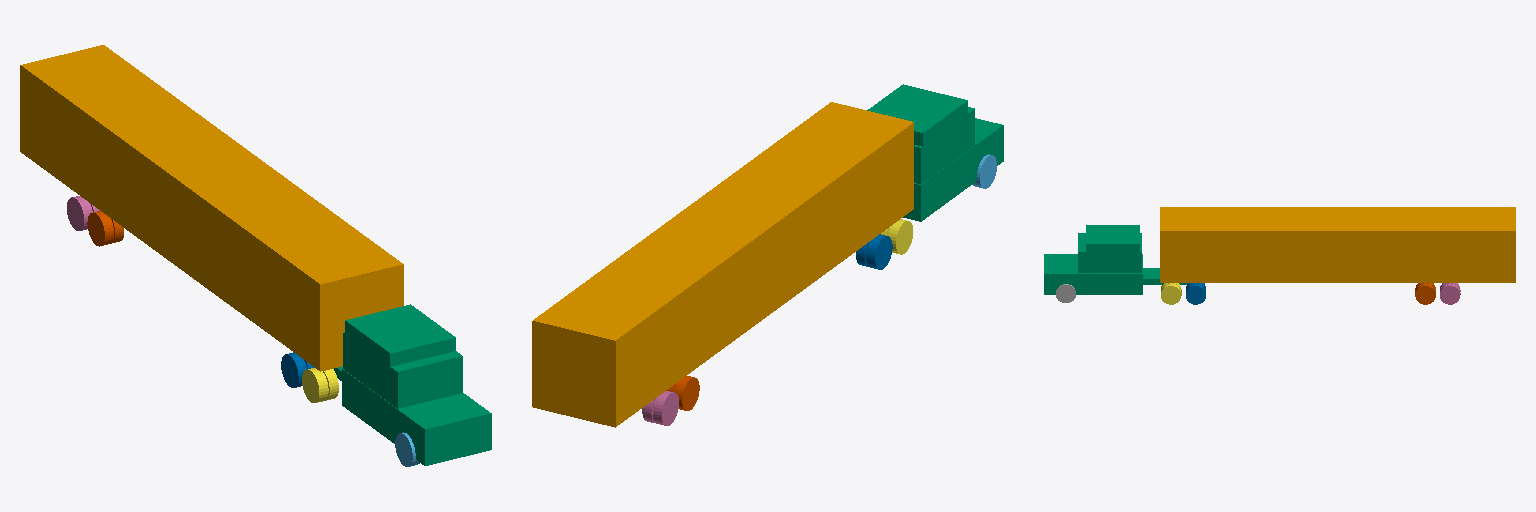
URDF robot description (semitruck):
<?xml version="1.0" ?>
<robot name="semitruck">

<!-- Fifth Wheel Joint-->
  <joint name="semitruck__fifth_wheel" type="revolute">
    <parent link="semitruck__cab"/>
    <child link="semitruck__trailer"/>
    <origin rpy="0  0  0" xyz="0.03146  2.0878   2.02402"/>
    <axis xyz="0  0  1"/>
    <limit effort="0.0" lower="-0.785" upper="0.785" velocity="0.0"/>
    <dynamics damping="0.7" friction="1" />
  </joint>
  <transmission name="semitruck__fifth_wheel_free">
    <type>transmission_interface/SimpleTransmission</type>
    <joint name="semitruck__fifth_wheel">
      <hardwareInterface>hardware_interface/EffortJointInterface</hardwareInterface>
    </joint>
    <actuator name="fifth_wheel_free">
      <mechanicalReduction>1</mechanicalReduction>
      <hardwareInterface>hardware_interface/EffortJointInterface</hardwareInterface>
    </actuator>
  </transmission>

<!-- Front Left Wheel  Joints-->
  <joint name="semitruck__front_left_steer" type="revolute">
    <parent link="semitruck__cab"/>
    <child link="semitruck__front_left_wheel_steering_block"/>
    <origin rpy="0  0  0" xyz="0.8     -3.2395   0.47022"/>
    <axis xyz="0  0  1"/>
    <limit effort="10000.0" lower="-0.8727" upper="0.8727" velocity="100.0"/>
    <dynamics damping="0.7" friction="1" />
  </joint>
  <transmission name="front_left_steer_trans">
    <type>transmission_interface/SimpleTransmission</type>
    <joint name="semitruck__front_left_steer">
      <hardwareInterface>hardware_interface/EffortJointInterface</hardwareInterface>
    </joint>
    <actuator name="front_left_steer_motor">
      <mechanicalReduction>1</mechanicalReduction>
      <hardwareInterface>hardware_interface/EffortJointInterface</hardwareInterface>
    </actuator>
  </transmission>
  <joint name="semitruck__front_left_drive" type="continuous">
    <parent link="semitruck__front_left_wheel_steering_block"/>
    <child link="semitruck__front_left_wheel"/>
    <origin rpy="0  0  0" xyz="0.17623  0       0"/>
    <axis xyz="1  0  0"/>
    <limit effort="10000.0" velocity="100.0"/>
    <dynamics damping="0.7" friction="1" />
  </joint>

<!-- Frint Right Wheel Joints-->
  <joint name="semitruck__front_right_steer" type="revolute">
    <parent link="semitruck__cab"/>
    <child link="semitruck__front_right_wheel_steering_block"/>
    <origin rpy="0  0  0" xyz="-0.8     -3.2395   0.47022"/>
    <axis xyz="0  0  1"/>
    <limit effort="10000.0" lower="-0.8727" upper="0.8727" velocity="100.0"/>
    <dynamics damping="0.7" friction="1" />
  </joint>
  <transmission name="front_right_steer_trans">
    <type>transmission_interface/SimpleTransmission</type>
    <joint name="semitruck__front_right_steer">
      <hardwareInterface>hardware_interface/EffortJointInterface</hardwareInterface>
    </joint>
    <actuator name="front_right_steer_motor">
      <mechanicalReduction>1</mechanicalReduction>
      <hardwareInterface>hardware_interface/EffortJointInterface</hardwareInterface>
    </actuator>
  </transmission>
  <joint name="semitruck__front_right_drive" type="continuous">
    <parent link="semitruck__front_right_wheel_steering_block"/>
    <child link="semitruck__front_right_wheel"/>
    <origin rpy="0  0  0" xyz="-0.17623  0       0"/>
    <axis xyz="1  0  0"/>
    <limit effort="10000.0" velocity="100.0"/>
    <dynamics damping="0.7" friction="1" />
  </joint>

<!-- Other Wheels  Joints-->
  <joint name="semitruck__rear1" type="continuous">
    <parent link="semitruck__cab"/>
    <child link="semitruck__rear_wheel1"/>
    <origin rpy="0  0  0" xyz="0       1.53513  0.47022"/>
    <axis xyz="1  0  0"/>
    <limit effort="10000.0" velocity="100.0"/>
    <dynamics damping="0.7" friction="1" />
  </joint>
  <transmission name="rear1_trans">
    <type>transmission_interface/SimpleTransmission</type>
    <joint name="semitruck__rear1">
      <hardwareInterface>hardware_interface/EffortJointInterface</hardwareInterface>
    </joint>
    <actuator name="rear1_motor">
      <mechanicalReduction>1</mechanicalReduction>
      <hardwareInterface>hardware_interface/EffortJointInterface</hardwareInterface>
    </actuator>
  </transmission>

  <joint name="semitruck__rear2" type="continuous">
    <parent link="semitruck__cab"/>
    <child link="semitruck__rear_wheel2"/>
    <origin rpy="0  0  0" xyz="0       2.65578  0.47022"/>
    <axis xyz="1  0  0"/>
    <limit effort="10000.0" velocity="100.0"/>
    <dynamics damping="0.7" friction="1" />
  </joint>
  <transmission name="rear2_trans">
    <type>transmission_interface/SimpleTransmission</type>
    <joint name="semitruck__rear2">
      <hardwareInterface>hardware_interface/EffortJointInterface</hardwareInterface>
    </joint>
    <actuator name="rear2_motor">
      <mechanicalReduction>1</mechanicalReduction>
      <hardwareInterface>hardware_interface/EffortJointInterface</hardwareInterface>
    </actuator>
  </transmission>

  <joint name="semitruck__rear3" type="continuous">
    <parent link="semitruck__trailer"/>
    <child link="semitruck__rear_wheel3"/>
    <origin rpy="0  0  0" xyz="-0.03146  10.99998  -1.5538"/>
    <axis xyz="1  0  0"/>
    <limit effort="0.0" velocity="0.0"/>
    <dynamics damping="0.7" friction="1" />
  </joint>

  <joint name="semitruck__rear4" type="continuous">
    <parent link="semitruck__trailer"/>
    <child link="semitruck__rear_wheel4"/>
    <origin rpy="0  0  0" xyz="-0.03146  12.11072  -1.5538"/>
    <axis xyz="1  0  0"/>
    <limit effort="0.0" velocity="0.0"/>
    <dynamics damping="0.7" friction="1" />
  </joint>

<!-- Trailer Body -->
  <link name="semitruck__trailer">
    <inertial>
      <mass value="5443"/>
      <origin rpy="0  0  0" xyz="0       0       0.39173"/>
      <inertia ixx="121449.510163652" ixy="0" ixz="0" iyy="6087.32112493" iyz="0" izz="121452.253785888"/>
    </inertial>
    <collision>
      <origin rpy="0  0  0" xyz="0       7       0.39173"/>
      <geometry>
        <box size="2.591 16.156993521 2.589832471"/>
      </geometry>
    </collision>
    <visual>
      <origin rpy="0  0  0" xyz="0       7       0.39173"/>
      <geometry>
        <box size="2.591 16.156993521 2.589832471"/>
      </geometry>
    </visual>
  </link>
  <gazebo reference="semitruck__trailer">
    <material>Gazebo/Grey</material>
  </gazebo>

<!-- Dummy base link to allow inertia on the cab. -->
  <link name="dummy"/>
  <joint name="dummy_joint" type="fixed">
    <parent link="dummy"/>
    <child link="semitruck__cab"/>
    <origin rpy="0 0 0" xyz="0 0 0"/>
  </joint>

<!-- Cab Link -->
  <link name="semitruck__cab">
    <inertial>
      <mass value="9072"/>
      <origin rpy="0  0  0" xyz="0  -0.2 -0.5"/>
      <inertia ixx="22831.804454735" ixy="0" ixz="0" iyy="11801.392026984" iyz="0" izz="19031.257370538"/>
    </inertial>
    <collision>
      <origin rpy="0  0  0" xyz="0.00484 -1.99062  0.9116"/>
      <geometry>
        <box size="2.066777679 4.45124915 1.094685077"/>
      </geometry>
    </collision>
    <collision>
      <origin rpy="0  0  0" xyz="0.00484 -1.25435  2.00632"/>
      <geometry>
        <box size="2.039343709 2.911903019 1.094763831"/>
      </geometry>
    </collision>
    <collision>
      <origin rpy="0.33294  0       0" xyz="0.00484 -1.11043  2.48075"/>
      <geometry>
        <box size="2.039343709 2.441375202 0.945048465"/>
      </geometry>
    </collision>
    <collision>
      <origin rpy="0  0  0" xyz="0.00484  1.63918  0.82474"/>
      <geometry>
        <box size="1.21561 2.87523 0.29854"/>
      </geometry>
    </collision>
    <visual>
      <origin rpy="0  0  0" xyz="0.00484 -1.99062  0.9116"/>
      <geometry>
        <box size="2.066777679 4.45124915 1.094685077"/>
      </geometry>
    </visual>
    <visual>
      <origin rpy="0  0  0" xyz="0.00484 -1.25435  2.00632"/>
      <geometry>
        <box size="2.039343709 2.911903019 1.094763831"/> 
      </geometry>
    </visual>
    <visual>
      <origin rpy="0  0  0" xyz="0.00484 -1.11043  2.48075"/>
      <geometry>
        <box size="2.039343709 2.441375202 0.945048465"/> 
      </geometry>
    </visual>
    <visual>
      <origin rpy="0  0  0" xyz="0.00484  1.63918  0.82474"/>
      <geometry>
        <box size="1.21561 2.87523 0.29854"/>
      </geometry>
    </visual>
  </link>
  <gazebo reference="semitruck__cab">
    <material>Gazebo/Red</material>
  </gazebo>

<!-- Wheel Links  -->
  <link name="semitruck__rear_wheel1">
    <inertial>
      <mass value="36"/>
      <origin rpy="0      1.5707  0" xyz="0  0  0"/>
      <inertia ixx="21.208148357" ixy="0" ixz="0" iyy="21.208148357" iyz="0" izz="3.979923271"/>
    </inertial>
    <collision>
      <origin rpy="0      1.5707  0" xyz="1.12178  0       0"/>
      <geometry>
        <cylinder length="0.28745" radius="0.47022"/>
      </geometry>
    </collision>
    <collision>
      <origin rpy="0      1.5707  0" xyz="0.79986  0       0"/>
      <geometry>
        <cylinder length="0.28745" radius="0.47022"/>
      </geometry>
    </collision>
    <collision>
      <origin rpy="0      1.5707  0" xyz="-0.79986  0       0"/>
      <geometry>
        <cylinder length="0.28745" radius="0.47022"/>
      </geometry>
    </collision>
    <collision>
      <origin rpy="0      1.5707  0" xyz="-1.12178  0       0"/>
      <geometry>
        <cylinder length="0.28745" radius="0.47022"/>
      </geometry>
    </collision>
    <visual>
      <origin rpy="0      1.5707  0" xyz="1.12178  0       0"/>
      <geometry>
        <cylinder length="0.28745" radius="0.47022"/>
      </geometry>
    </visual>
    <visual>
      <origin rpy="0      1.5707  0" xyz="0.79986  0       0"/>
      <geometry>
        <cylinder length="0.28745" radius="0.47022"/> 
      </geometry>
    </visual>
    <visual>
      <origin rpy="0      1.5707  0" xyz="-0.79986  0       0"/>
      <geometry>
        <cylinder length="0.28745" radius="0.47022"/> 
      </geometry>
    </visual>
    <visual>
      <origin rpy="0      1.5707  0" xyz="-1.12178  0       0"/>
      <geometry>
        <cylinder length="0.28745" radius="0.47022"/>
      </geometry>
    </visual>
  </link>
  <gazebo reference="semitruck__rear_wheel1">
    <material>Gazebo/Black</material>
    <mu1 value="100.0"/>
    <mu2 value="100.0"/>
    <kp value="10000000.0" />
    <kd value="1.0" />
  </gazebo>
  <link name="semitruck__rear_wheel2">
    <inertial>
      <mass value="36"/>
      <origin rpy="0      1.5707  0" xyz="0  0  0"/>
      <inertia ixx="21.208148357" ixy="0" ixz="0" iyy="21.208148357" iyz="0" izz="3.979923271"/>
    </inertial>
    <collision>
      <origin rpy="0      1.5707  0" xyz="1.12178  0       0"/>
      <geometry>
        <cylinder length="0.28745" radius="0.47022"/>
      </geometry>
    </collision>
    <collision>
      <origin rpy="0      1.5707  0" xyz="0.79986  0       0"/>
      <geometry>
        <cylinder length="0.28745" radius="0.47022"/>
      </geometry>
    </collision>
    <collision>
      <origin rpy="0      1.5707  0" xyz="-0.79986  0       0"/>
      <geometry>
        <cylinder length="0.28745" radius="0.47022"/>
      </geometry>
    </collision>
    <collision>
      <origin rpy="0      1.5707  0" xyz="-1.12178  0       0"/>
      <geometry>
        <cylinder length="0.28745" radius="0.47022"/>
      </geometry>
    </collision>
    <visual>
      <origin rpy="0      1.5707  0" xyz="1.12178  0       0"/>
      <geometry>
        <cylinder length="0.28745" radius="0.47022"/> 
      </geometry>
    </visual>
    <visual>
      <origin rpy="0      1.5707  0" xyz="0.79986  0       0"/>
      <geometry>
        <cylinder length="0.28745" radius="0.47022"/>
      </geometry>
    </visual>
    <visual>
      <origin rpy="0      1.5707  0" xyz="-0.79986  0       0"/>
      <geometry>
        <cylinder length="0.28745" radius="0.47022"/> 
      </geometry>
    </visual>
    <visual>
      <origin rpy="0      1.5707  0" xyz="-1.12178  0       0"/>
      <geometry>
        <cylinder length="0.28745" radius="0.47022"/>
      </geometry>
    </visual>
  </link>
  <gazebo reference="semitruck__rear_wheel2">
    <material>Gazebo/Black</material>
    <mu1 value="100.0"/>
    <mu2 value="100.0"/>
    <kp value="10000000.0" />
    <kd value="1.0" />
  </gazebo>
  <link name="semitruck__rear_wheel3">
    <inertial>
      <mass value="36"/>
      <origin rpy="0      1.5707  0" xyz="0  0  0"/>
      <inertia ixx="21.208148357" ixy="0" ixz="0" iyy="21.208148357" iyz="0" izz="3.979923271"/>
    </inertial>
    <collision>
      <origin rpy="0      1.5707  0" xyz="1.12178  0       0"/>
      <geometry>
        <cylinder length="0.28745" radius="0.47022"/>
      </geometry>
    </collision>
    <collision>
      <origin rpy="0      1.5707  0" xyz="0.79986  0       0"/>
      <geometry>
        <cylinder length="0.28745" radius="0.47022"/>
      </geometry>
    </collision>
    <collision>
      <origin rpy="0      1.5707  0" xyz="-0.79986  0       0"/>
      <geometry>
        <cylinder length="0.28745" radius="0.47022"/>
      </geometry>
    </collision>
    <collision>
      <origin rpy="0      1.5707  0" xyz="-1.12178  0       0"/>
      <geometry>
        <cylinder length="0.28745" radius="0.47022"/>
      </geometry>
    </collision>
    <visual>
      <origin rpy="0      1.5707  0" xyz="1.12178  0       0"/>
      <geometry>
        <cylinder length="0.28745" radius="0.47022"/> 
      </geometry>
    </visual>
    <visual>
      <origin rpy="0      1.5707  0" xyz="0.79986  0       0"/>
      <geometry>
        <cylinder length="0.28745" radius="0.47022"/> 
      </geometry>
    </visual>
    <visual>
      <origin rpy="0      1.5707  0" xyz="-0.79986  0       0"/>
      <geometry>
        <cylinder length="0.28745" radius="0.47022"/> 
      </geometry>
    </visual>
    <visual>
      <origin rpy="0      1.5707  0" xyz="-1.12178  0       0"/>
      <geometry>
        <cylinder length="0.28745" radius="0.47022"/> 
      </geometry>
    </visual>
  </link>
  <gazebo reference="semitruck__rear_wheel3">
    <material>Gazebo/Black</material>
    <mu1 value="100.0"/>
    <mu2 value="100.0"/>
    <kp value="10000000.0" />
    <kd value="1.0" />
  </gazebo>
  <link name="semitruck__rear_wheel4">
    <inertial>
      <mass value="36"/>
      <origin rpy="0      1.5707  0" xyz="0  0  0"/>
      <inertia ixx="21.208148357" ixy="0" ixz="0" iyy="21.208148357" iyz="0" izz="3.979923271"/>
    </inertial>
    <collision>
      <origin rpy="0      1.5707  0" xyz="1.12178  0       0"/>
      <geometry>
        <cylinder length="0.28745" radius="0.47022"/>
      </geometry>
    </collision>
    <collision>
      <origin rpy="0      1.5707  0" xyz="0.79986  0       0"/>
      <geometry>
        <cylinder length="0.28745" radius="0.47022"/>
      </geometry>
    </collision>
    <collision>
      <origin rpy="0      1.5707  0" xyz="-0.79986  0       0"/>
      <geometry>
        <cylinder length="0.28745" radius="0.47022"/>
      </geometry>
    </collision>
    <collision>
      <origin rpy="0      1.5707  0" xyz="-1.12178  0       0"/>
      <geometry>
        <cylinder length="0.28745" radius="0.47022"/>
      </geometry>
    </collision>
    <visual>
      <origin rpy="0      1.5707  0" xyz="1.12178  0       0"/>
      <geometry>
        <cylinder length="0.28745" radius="0.47022"/> 
      </geometry>
    </visual>
    <visual>
      <origin rpy="0      1.5707  0" xyz="0.79986  0       0"/>
      <geometry>
        <cylinder length="0.28745" radius="0.47022"/> 
      </geometry>
    </visual>
    <visual>
      <origin rpy="0      1.5707  0" xyz="-0.79986  0       0"/>
      <geometry>
        <cylinder length="0.28745" radius="0.47022"/> 
      </geometry>
    </visual>
    <visual>
      <origin rpy="0      1.5707  0" xyz="-1.12178  0       0"/>
      <geometry>
        <cylinder length="0.28745" radius="0.47022"/> 
      </geometry>
    </visual>
  </link>
  <gazebo reference="semitruck__rear_wheel4">
    <material>Gazebo/Black</material>
    <mu1 value="100.0"/>
    <mu2 value="100.0"/>
    <kp value="10000000.0" />
    <kd value="1.0" />
  </gazebo>
  <link name="semitruck__front_left_wheel">
    <inertial>
      <mass value="9"/>
      <origin rpy="0      1.5707  0" xyz="0  0  0"/>
      <inertia ixx="0.559461036" ixy="0" ixz="0" iyy="0.559461036" iyz="0" izz="0.994980818"/>
    </inertial>
    <collision>
      <origin rpy="0      1.5707  0" xyz="0  0  0"/>
      <geometry>
        <cylinder length="0.28745" radius="0.47022"/>
      </geometry>
    </collision>
    <visual>
      <origin rpy="0      1.5707  0" xyz="0  0  0"/>
      <geometry>
        <cylinder length="0.28745" radius="0.47022"/> 
      </geometry>
    </visual>
  </link>
  <gazebo reference="semitruck__front_left_wheel">
    <material>Gazebo/Black</material>
    <mu1 value="100.0"/>
    <mu2 value="100.0"/>
    <kp value="10000000.0" />
    <kd value="1.0" />
  </gazebo>
  <link name="semitruck__front_left_wheel_steering_block">
    <inertial>
      <mass value="1"/>
      <origin rpy="0  0  0" xyz="0  0  0"/>
      <inertia ixx="0.000633333" ixy="0.0" ixz="0.0" iyy="0.000633333" iyz="0.0" izz="0.00125"/>
    </inertial>
    <collision>
      <origin rpy="0      1.5707  0" xyz="0  0  0"/>
      <geometry>
        <cylinder length="0.01" radius="0.05"/>
      </geometry>
    </collision>
  </link>
  <link name="semitruck__front_right_wheel">
    <inertial>
      <mass value="9"/>
      <origin rpy="0      1.5707  0" xyz="0  0  0"/>
      <inertia ixx="0.559461036" ixy="0" ixz="0" iyy="0.559461036" iyz="0" izz="0.994980818"/>
    </inertial>
    <collision>
      <origin rpy="0      1.5707  0" xyz="0  0  0"/>
      <geometry>
        <cylinder length="0.28745" radius="0.47022"/>
      </geometry>
    </collision>
    <visual>
      <origin rpy="0      1.5707  0" xyz="0  0  0"/>
      <geometry>
        <cylinder length="0.28745" radius="0.47022"/> 
      </geometry>
    </visual>
  </link>
  <gazebo reference="semitruck__front_right_wheel">
    <material> Gazebo/Black </material>
    <mu1 value="100.0"/>
    <mu2 value="100.0"/>
    <kp value="10000000.0" />
    <kd value="1.0" />
  </gazebo>
  <link name="semitruck__front_right_wheel_steering_block">
    <inertial>
      <mass value="1"/>
      <origin rpy="0  0  0" xyz="0  0  0"/>
      <inertia ixx="0.000633333" ixy="0.0" ixz="0.0" iyy="0.000633333" iyz="0.0" izz="0.00125"/>
    </inertial>
    <collision>
      <origin rpy="0      1.5707  0" xyz="0  0  0"/>
      <geometry>
        <cylinder length="0.01" radius="0.05"/>
      </geometry>
    </collision>
  </link>
  <gazebo>
    <plugin filename="libgazebo_ros_control.so" name="gazebo_ros_control">
      <robotNamespace>/semitruck</robotNamespace>
    </plugin>
  </gazebo>
</robot>

--- Render facts (derived) ---
Views: 3 orthographic renders of the robot side by side, from view 1: azimuth 30°, elevation 25°; view 2: azimuth 150°, elevation 25°; view 3: azimuth 270°, elevation 25°.
Robot: semitruck — 11 links, 10 joints (3 revolute, 6 continuous, 1 fixed); root link dummy; default pose: every joint at zero.
Links seen in each view (by area): view 1: semitruck__trailer, semitruck__cab, semitruck__rear_wheel1, semitruck__rear_wheel3, semitruck__rear_wheel2, semitruck__rear_wheel4, semitruck__front_right_wheel; view 2: semitruck__trailer, semitruck__cab, semitruck__rear_wheel2, semitruck__rear_wheel4, semitruck__rear_wheel1, semitruck__rear_wheel3, semitruck__front_right_wheel; view 3: semitruck__trailer, semitruck__cab.
Boxes of the visible links, box(x1,y1,x2,y2) form: semitruck__trailer: box(20, 45, 403, 371); semitruck__cab: box(334, 304, 491, 465); semitruck__rear_wheel1: box(302, 368, 338, 402); semitruck__rear_wheel3: box(87, 211, 123, 246); semitruck__rear_wheel2: box(281, 352, 314, 387); semitruck__rear_wheel4: box(67, 196, 99, 230); semitruck__front_right_wheel: box(395, 432, 419, 466); semitruck__trailer: box(532, 102, 913, 427); semitruck__cab: box(867, 84, 1003, 221); semitruck__rear_wheel2: box(856, 234, 892, 269); semitruck__rear_wheel4: box(642, 391, 678, 425); semitruck__rear_wheel1: box(881, 219, 912, 254); semitruck__rear_wheel3: box(666, 376, 699, 410); semitruck__front_right_wheel: box(972, 154, 996, 188); semitruck__trailer: box(1160, 207, 1515, 282); semitruck__cab: box(1044, 225, 1204, 294).
Bounding box of the posed robot: 2.59 × 21.38 × 3.71 m (x, y, z).
Geometry: primitives only (box / cylinder / sphere), no mesh files.